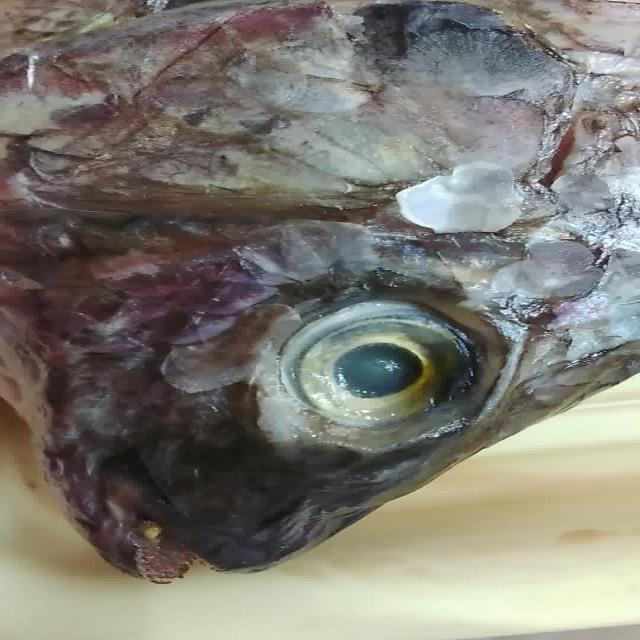Non-Fresh: (231, 267, 531, 490)
